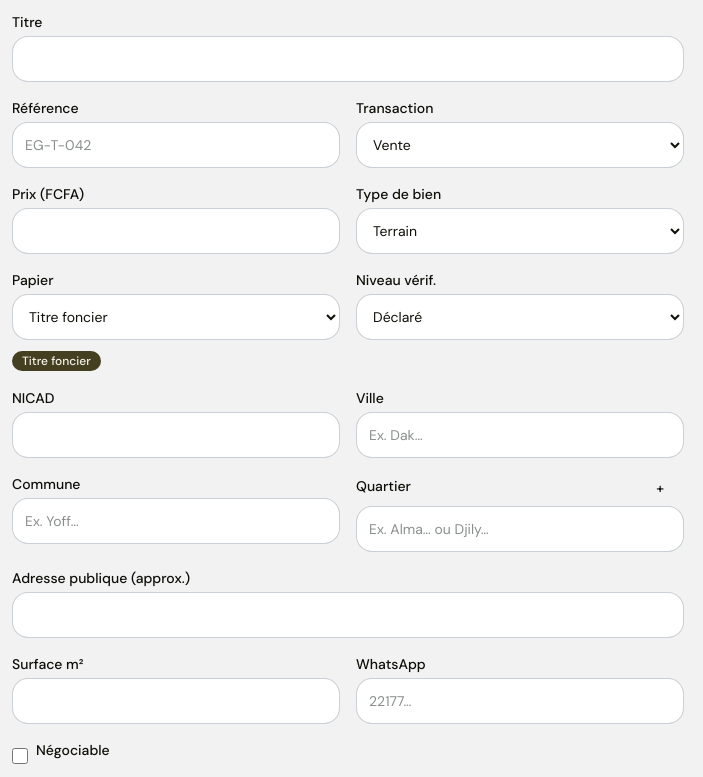
Test: ListingForm › hides Papier and NICAD when transaction is Location
Expected: the dropdown labelled "Papier" is shown, x1=12 y1=294 x2=340 y2=340
Expected: the field labelled "NICAD" is shown, x1=12 y1=412 x2=340 y2=458
Step 1. Select "Location" in the dropdown labelled "Transaction" → (520, 145), box x1=356 y1=122 x2=684 y2=168
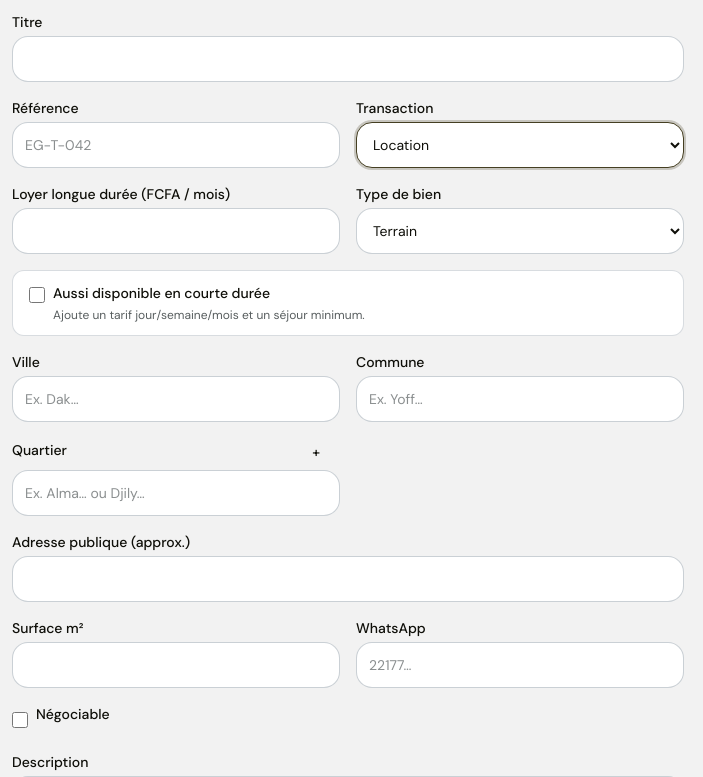
Result: the label labelled "Papier" is gone
Result: the label labelled "NICAD" is gone
Result: the text "Titre foncier" is gone
